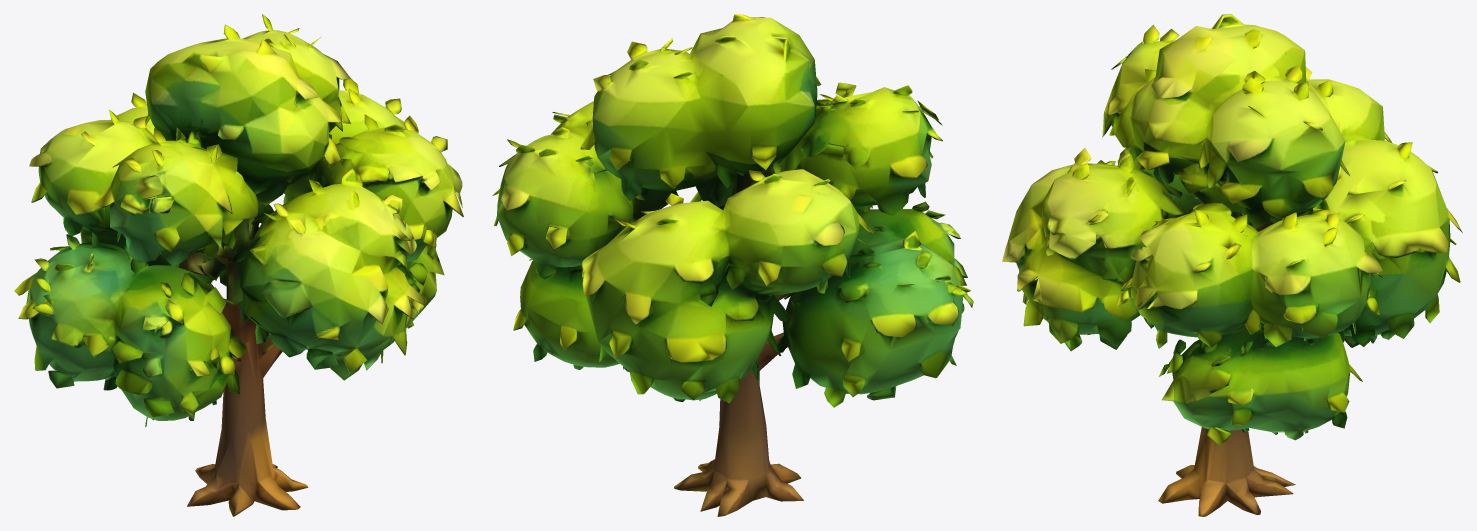
Rendered from tree-lite.glb.
The picture shows the model from 3 angles, left to right: view 1: azimuth 30°, elevation 25°; view 2: azimuth 150°, elevation 25°; view 3: azimuth 270°, elevation 25°; orthographic projection. The views are drawn at different scales.
Parts seen in each view (by area): view 1: node_0; view 2: node_0; view 3: node_0.
Boxes of the visible parts, box(x1,y1,x2,y2) form: node_0: box(14, 14, 463, 516); node_0: box(492, 14, 973, 516); node_0: box(1002, 14, 1462, 516).
Bounding box in the file's own units: 1.11 × 1.14 × 1.04.
Materials: 1 (1 with a texture image).
